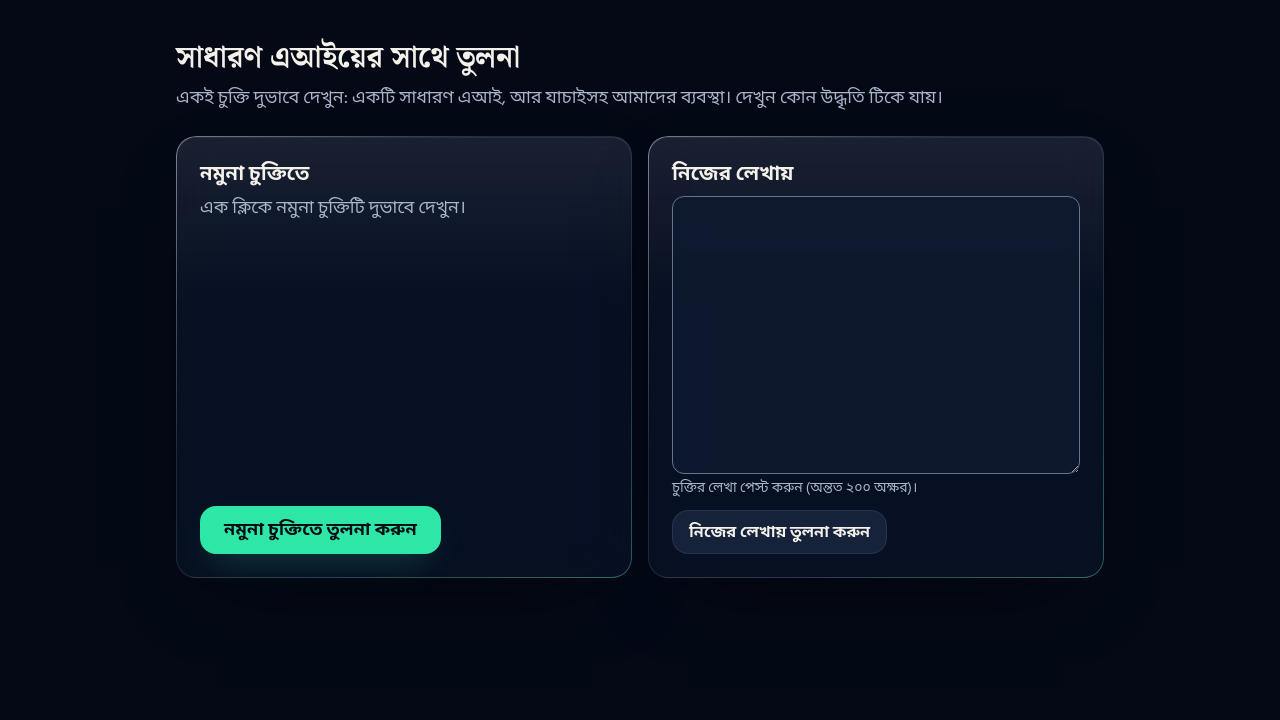
Test: compare pages › FR-59 starts a comparison on the sample and follows it to the result
Click the button "নমুনা চুক্তিতে তুলনা করুন" at (320, 530), box left=200, top=506, right=441, bottom=554
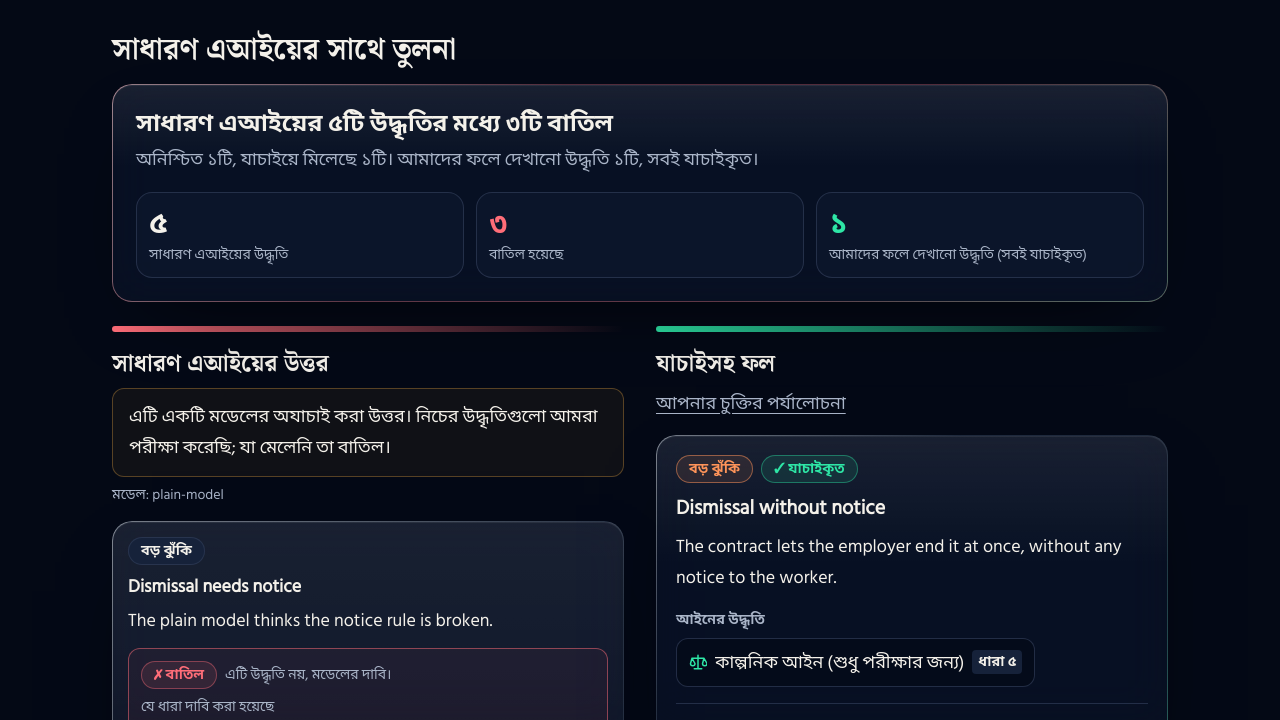
Check: the text with test id "compare-summary" shows "৩টি বাতিল", box left=136, top=104, right=613, bottom=143
